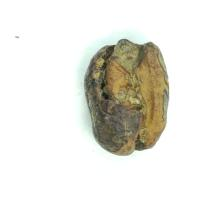NG: (85, 38, 169, 155)
